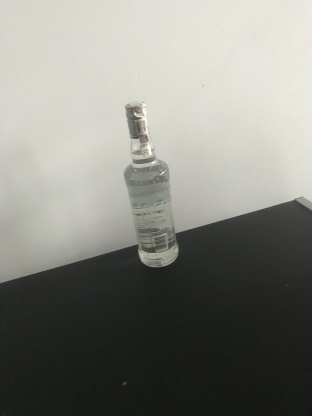nakretka: (124, 98, 149, 139)
